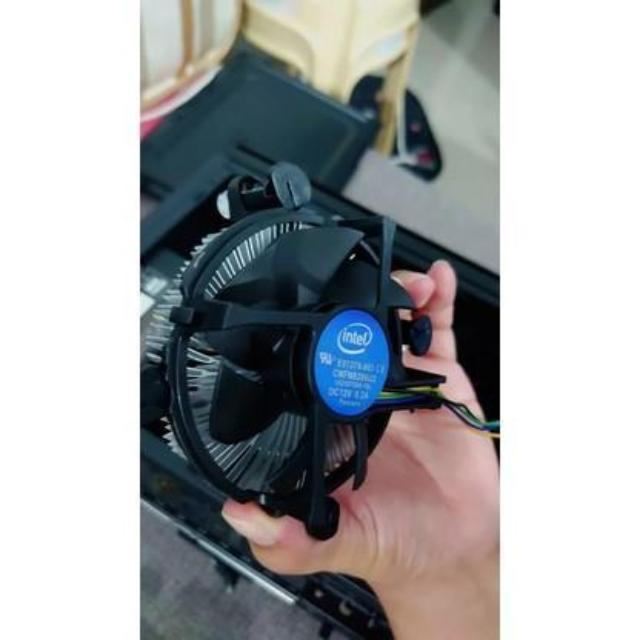CPU_Fan: (146, 165, 429, 530)
